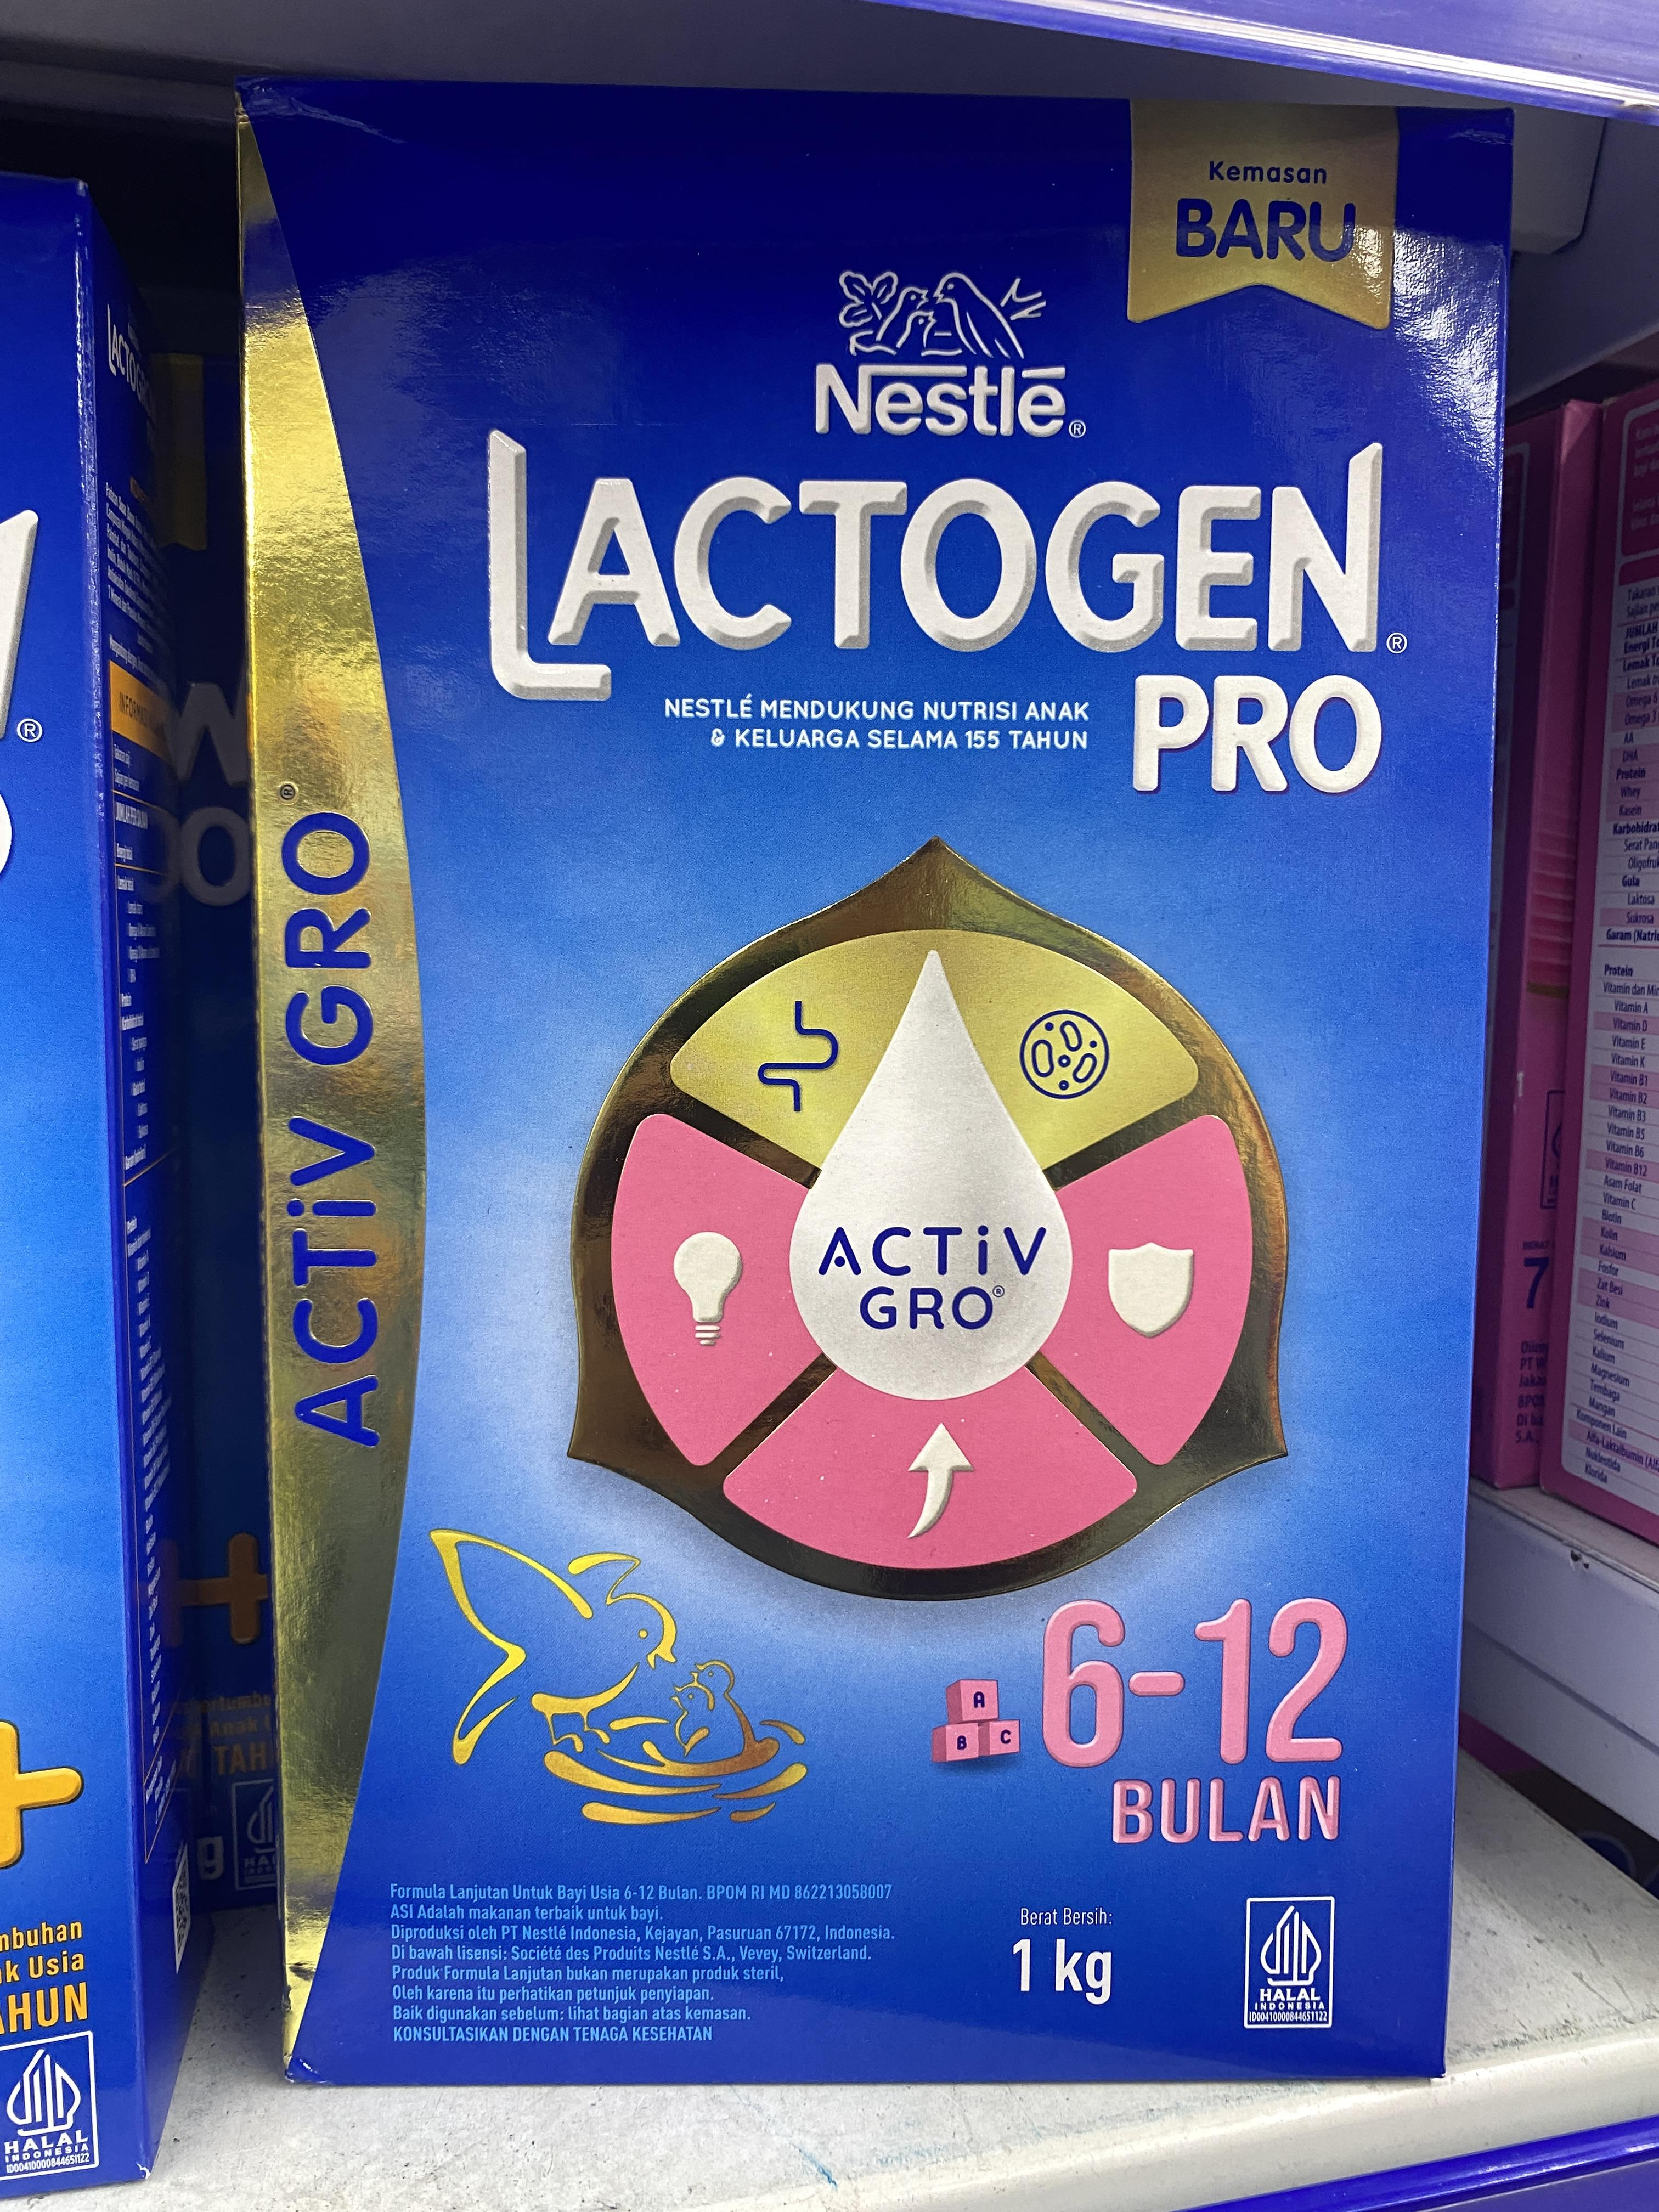LACTOGEN PRO 0-6 mo 12x1kg ID: (234, 49, 1507, 2083)
